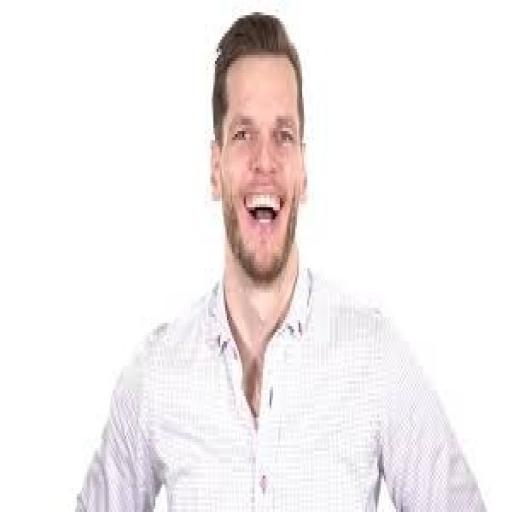laughing: (66, 6, 490, 509)
